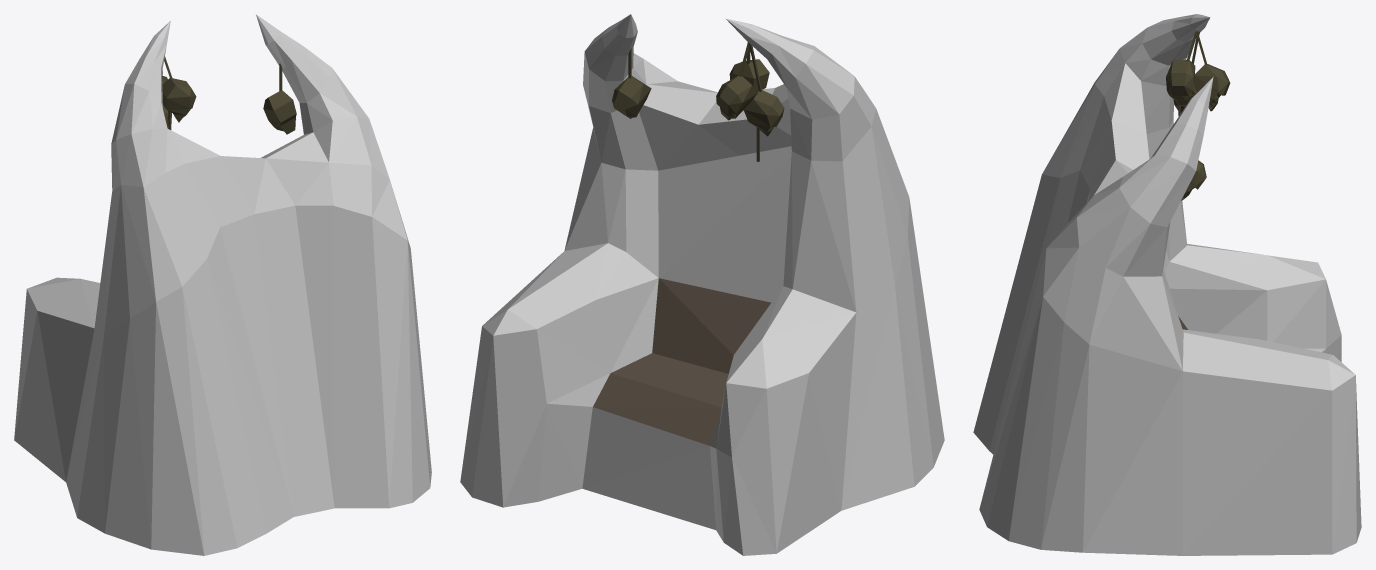
File: ORC_MASTERTHRONE.OBJ
3 renders of one model, left to right at view 1: azimuth 30°, elevation 25°; view 2: azimuth 150°, elevation 25°; view 3: azimuth 270°, elevation 25°, orthographic. The views are drawn at different scales.
Parts seen in each view (by area): view 1: ORC_MASTERTHRONE; view 2: ORC_MASTERTHRONE; view 3: ORC_MASTERTHRONE.
Boxes of the visible parts, bbox=[...] form: ORC_MASTERTHRONE: bbox=[14, 14, 431, 555]; ORC_MASTERTHRONE: bbox=[460, 14, 944, 555]; ORC_MASTERTHRONE: bbox=[973, 14, 1361, 555].
Size of the model in its own units: 1.95 by 2.51 by 1.99.
